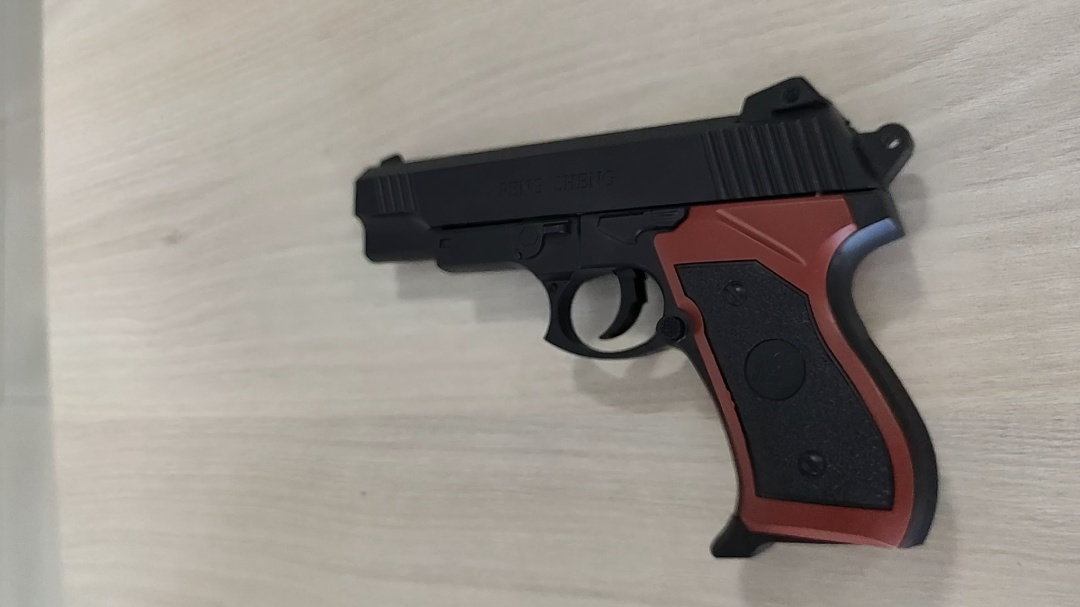gun: (352, 76, 941, 562)
